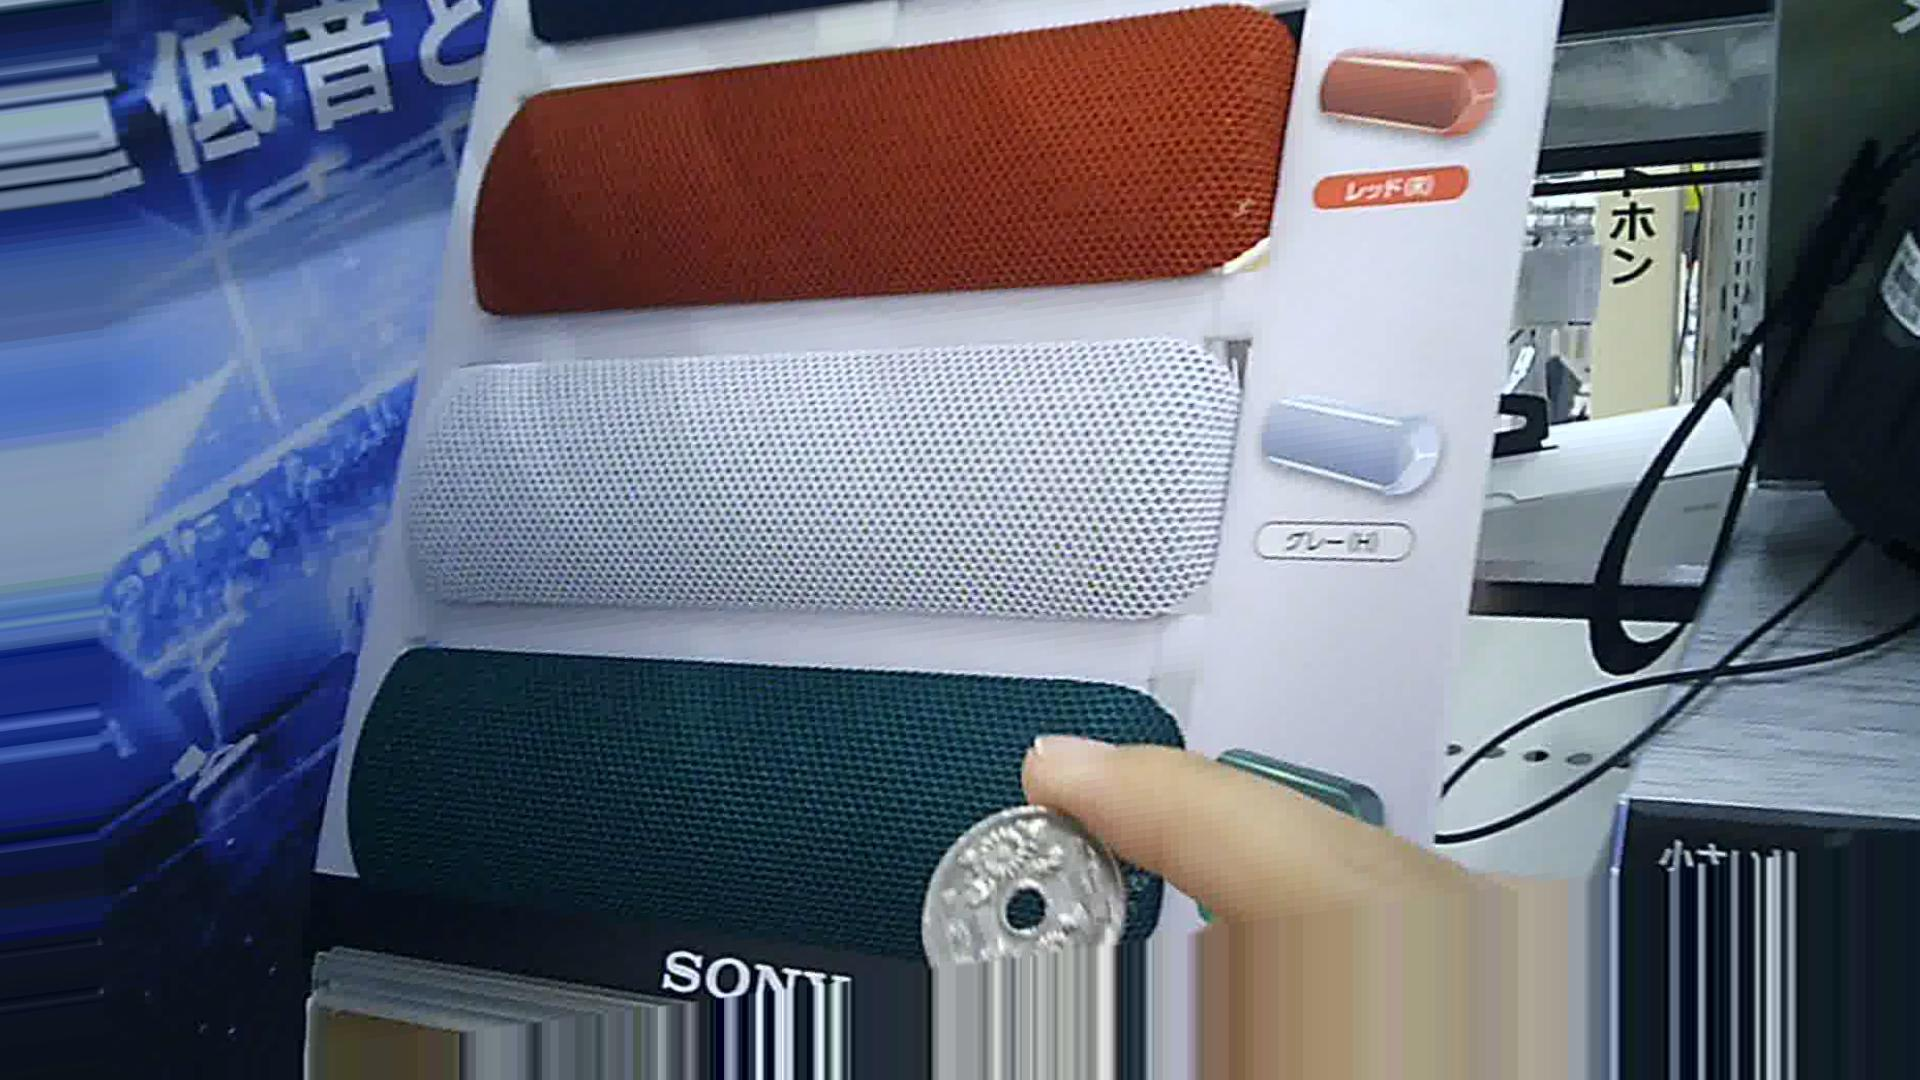50 Yen: (922, 786, 1129, 964)
